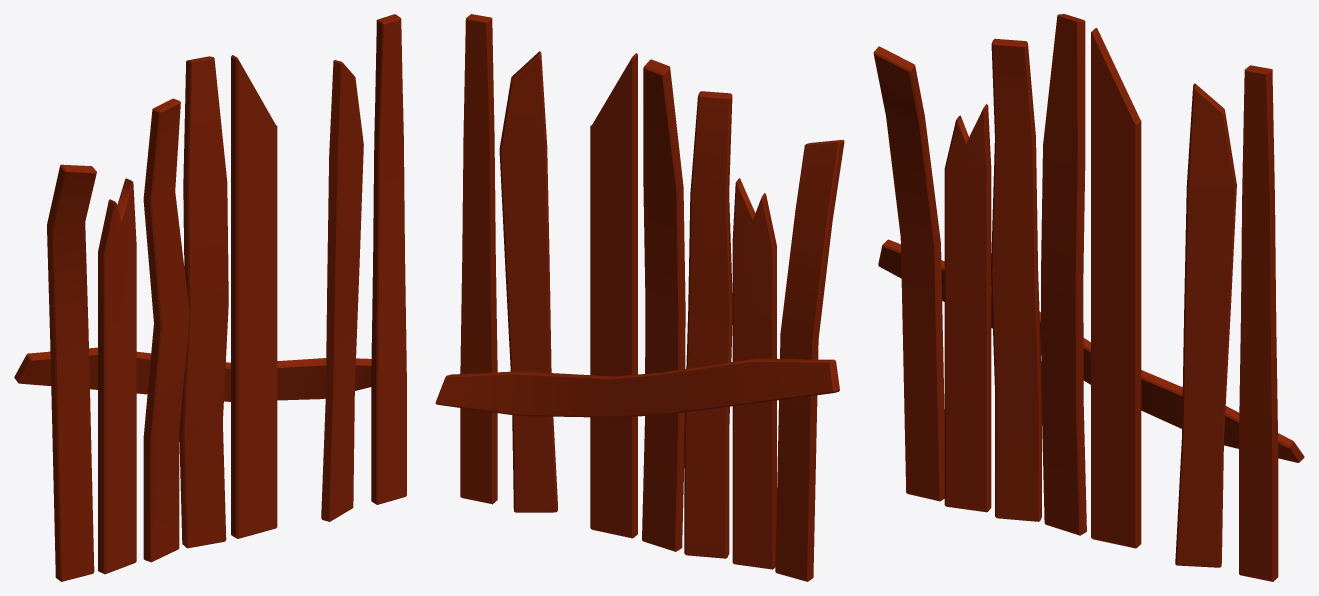
File: Baricade_01_07.fbx
The picture shows the model from 3 angles, left to right: view 1: azimuth 30°, elevation 25°; view 2: azimuth 150°, elevation 25°; view 3: azimuth 330°, elevation 25°; orthographic projection. The views are drawn at different scales.
Parts seen in each view (by area): view 1: Baricade_01_07; view 2: Baricade_01_07; view 3: Baricade_01_07.
Boxes of the visible parts, left/top/right/bottom form: Baricade_01_07: left=14, top=14, right=406, bottom=581; Baricade_01_07: left=435, top=14, right=844, bottom=581; Baricade_01_07: left=873, top=14, right=1304, bottom=581.
Bounding box in the file's own units: 223 × 264 × 40.55.
